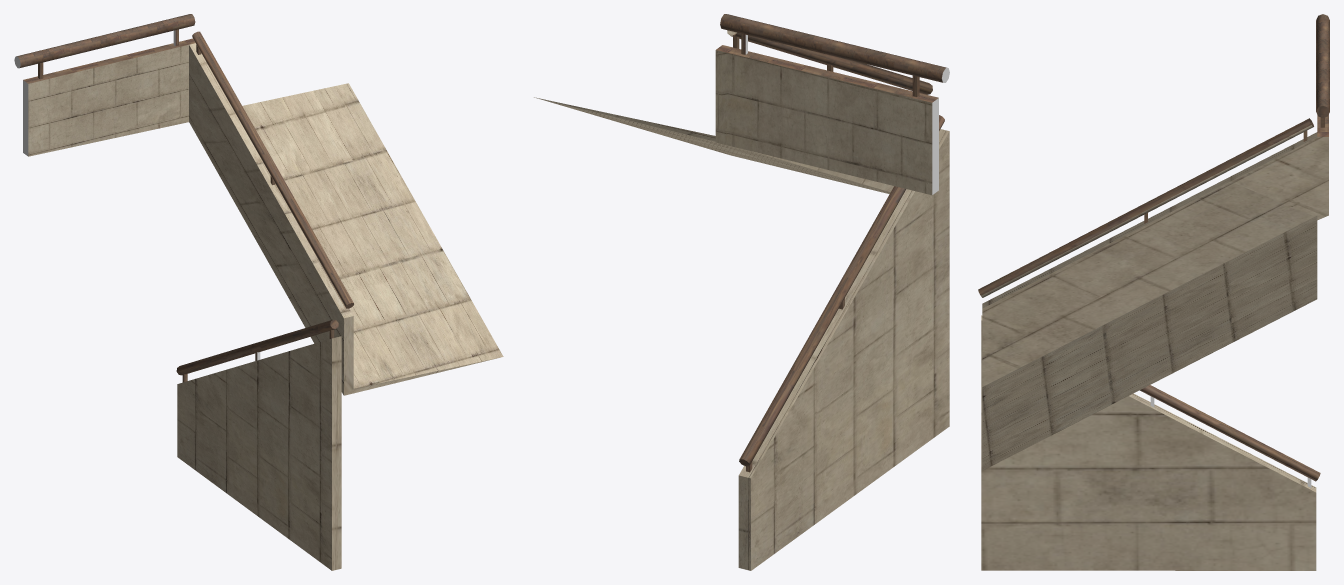
The model's file is bannister.obj.
3 renders of one model, left to right at view 1: azimuth 30°, elevation 25°; view 2: azimuth 150°, elevation 25°; view 3: azimuth 270°, elevation 25°, orthographic. The views are drawn at different scales.
Visible parts, largest first — view 1: Box08; view 2: Box08; view 3: Box08.
Part boxes in pixels (x1,y1,x2,y2): Box08: (14,14,503,570); Box08: (534,14,949,570); Box08: (978,14,1329,570).
Bounding box in the file's own units: 122 × 155 × 105.
1 material, 1 textured.
